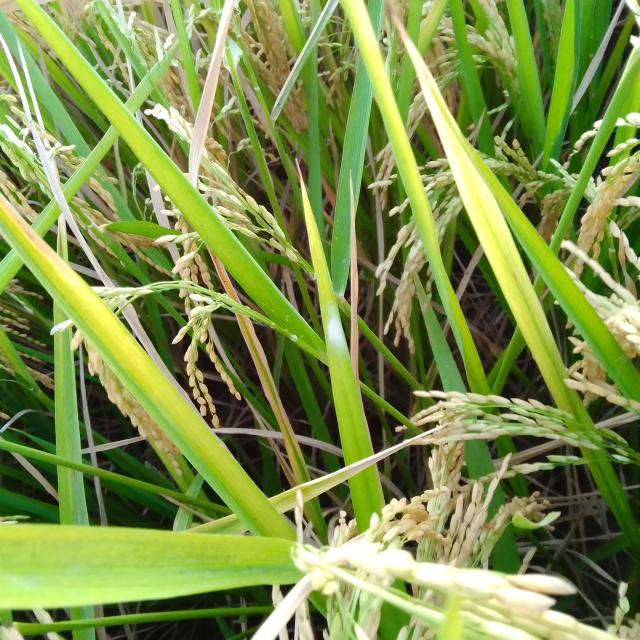Brown spot: (234, 318, 282, 408), (207, 246, 234, 292)
